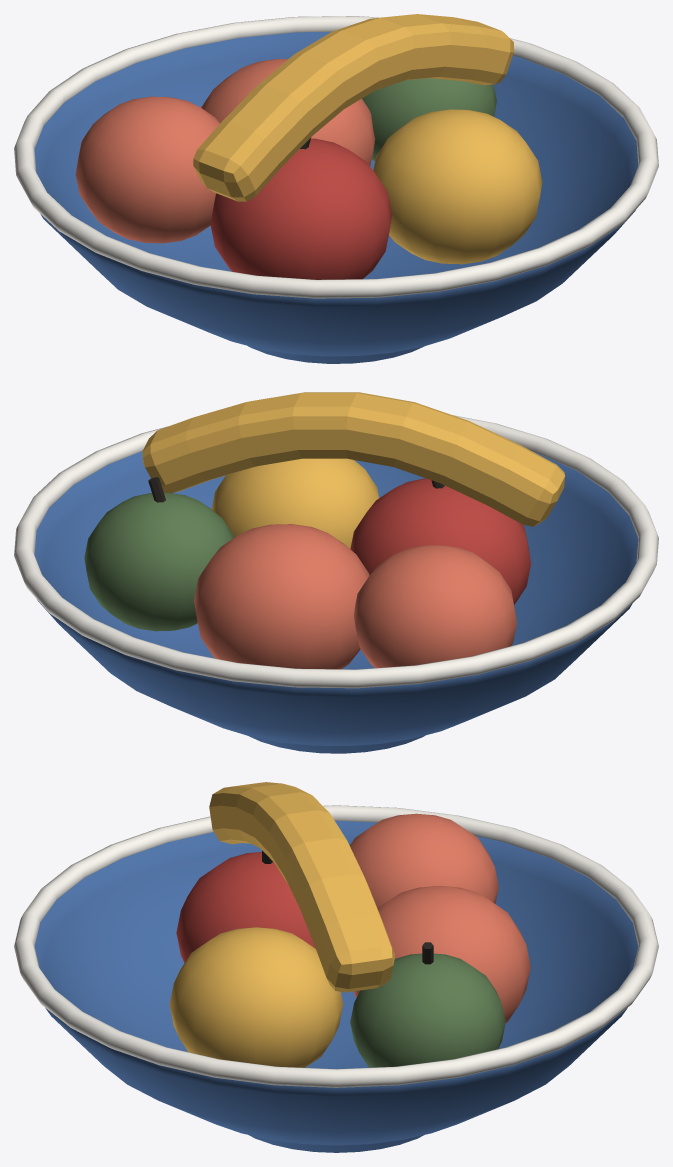
Rendered from hh_cat_fruit_bowl.glb.
The picture shows the model from 3 angles, top to bottom: view 1: azimuth 30°, elevation 25°; view 2: azimuth 150°, elevation 25°; view 3: azimuth 270°, elevation 25°; orthographic projection.
Visible parts, largest first — view 1: bowl, bowl_rim, banana, fruit.001, fruit, fruit.004, fruit.003, fruit.002; view 2: bowl, banana, bowl_rim, fruit.002, fruit.004, fruit.003, fruit, fruit.001; view 3: bowl, bowl_rim, fruit.001, banana, fruit.003, fruit.002, fruit.004, fruit.
Boxes of the visible parts, x1,y1,x2,y2 form: bowl: (34,31,638,363); bowl_rim: (14,16,658,298); banana: (193,14,513,201); fruit.001: (373,109,542,264); fruit: (210,138,392,279); fruit.004: (75,96,219,243); fruit.003: (362,78,496,161); fruit.002: (201,59,375,166); bowl: (34,451,638,753); banana: (142,392,565,526); bowl_rim: (14,415,658,688); fruit.002: (194,524,369,669); fruit.004: (354,545,516,668); fruit.003: (84,492,233,631); fruit: (350,478,531,604); fruit.001: (211,458,379,548); bowl: (34,820,638,1152); bowl_rim: (14,805,658,1087); fruit.001: (169,927,343,1067); banana: (209,782,394,992); fruit.003: (350,953,505,1067); fruit.002: (353,886,530,1022); fruit.004: (350,813,498,907); fruit: (176,852,315,962).
Size of the model in its own units: 0.28 by 0.14 by 0.28.
